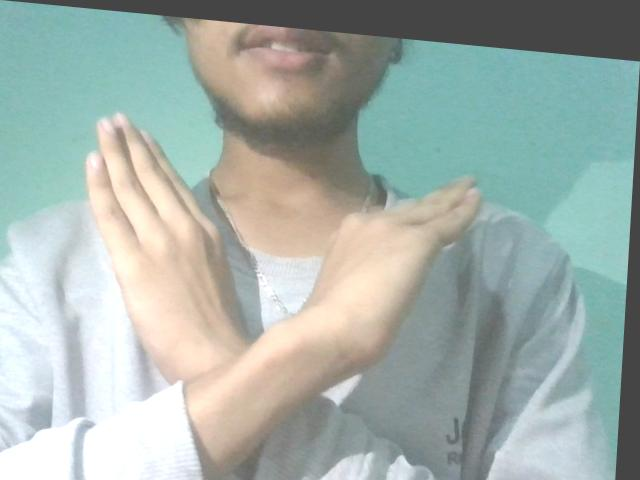dont: (71, 101, 497, 401)
